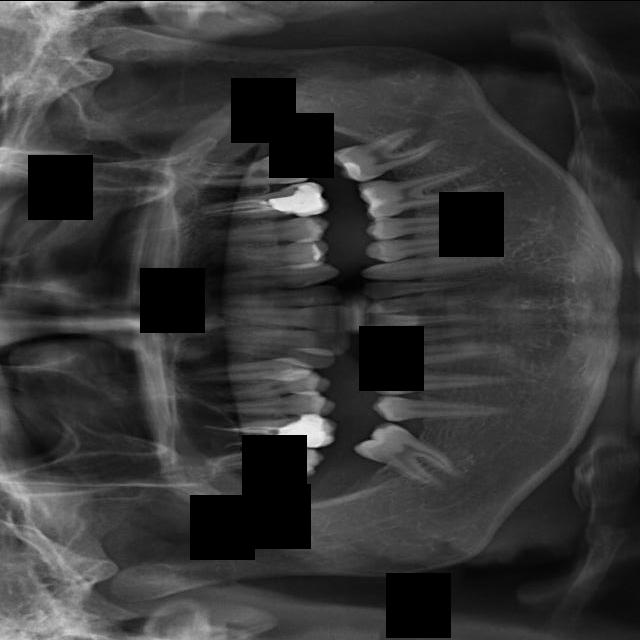AGS Medikal Implant: (323, 115, 456, 191)
AMerOss Implant: (353, 158, 505, 221)
Amalgam filling: (207, 440, 325, 481)
Anthogyr Implant: (361, 201, 507, 242)
Bicon Implant: (360, 230, 508, 263)
BioHorizons Implant: (355, 248, 513, 285)
BioLife Implant: (358, 277, 496, 299)
Biomet 3i Implant: (362, 287, 494, 317)
Blue Sky Bio Implant: (363, 307, 488, 331)
Camlog Implant: (361, 321, 495, 349)
Caries: (201, 282, 349, 315)
Composite filling: (355, 338, 519, 372)
Cowellmedi Implant: (362, 370, 515, 395)
Crown: (369, 395, 520, 427)
DENTSPLY Implant: (197, 415, 341, 451)
Dentis Implant: (346, 407, 478, 510)
Euroteknika Implant: (195, 393, 341, 415)
Filling: (199, 369, 337, 404)
Frontier Implant: (166, 352, 315, 392)
Hiossen Implant: (185, 260, 346, 293)
Implant: (215, 318, 354, 358)
Implant Direct: (205, 332, 339, 372)
Keystone Dental Implant: (209, 291, 360, 334)
MIS Implant: (208, 238, 337, 269)
Mandible: (192, 213, 339, 248)
Maxilla: (185, 179, 334, 222)
Megagen Implant: (173, 148, 318, 194)
